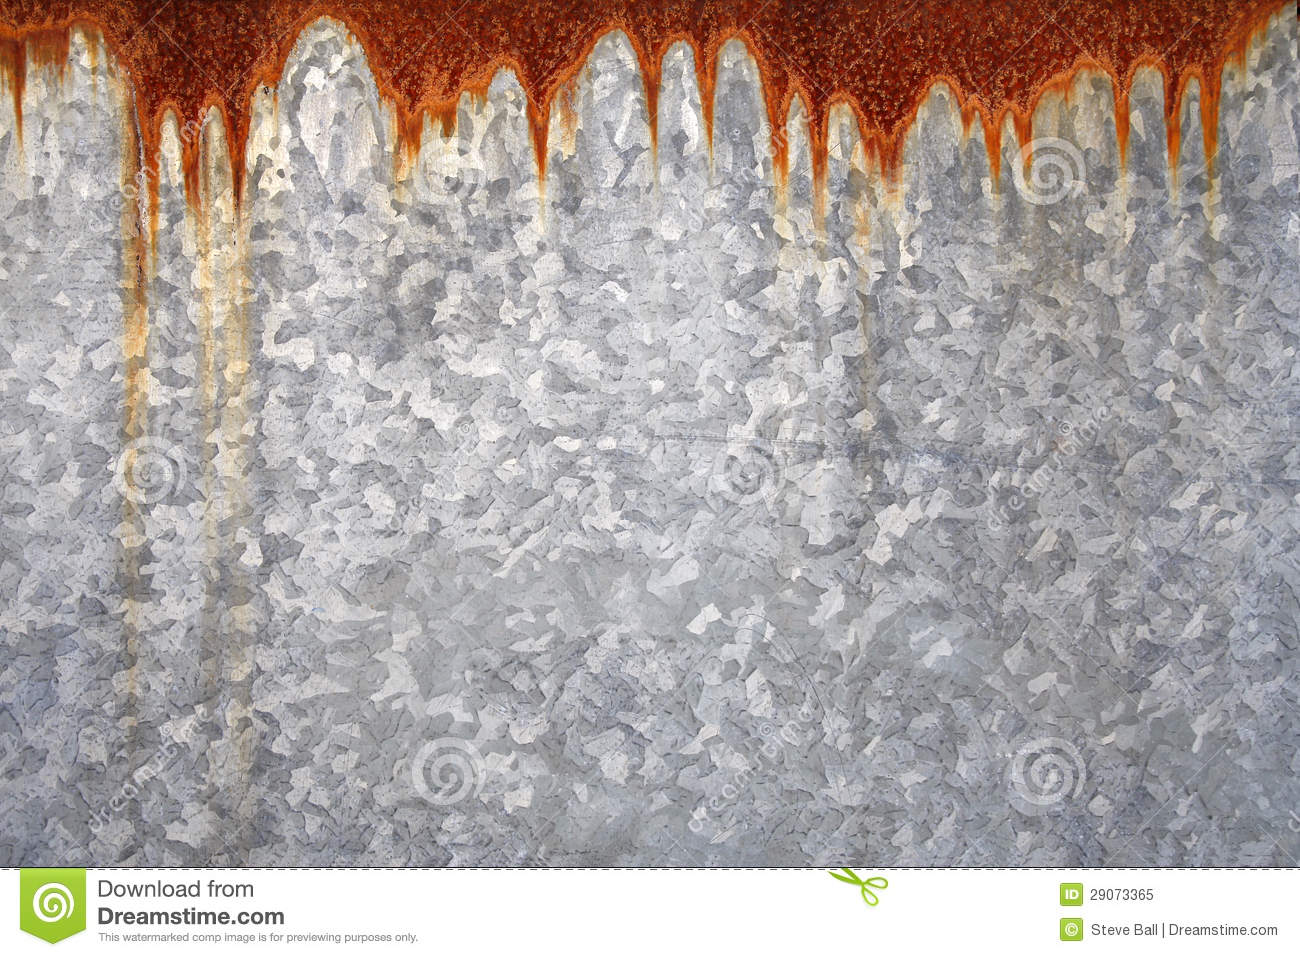rust: (658, 3, 1280, 167), (346, 1, 558, 171), (104, 11, 253, 194)
